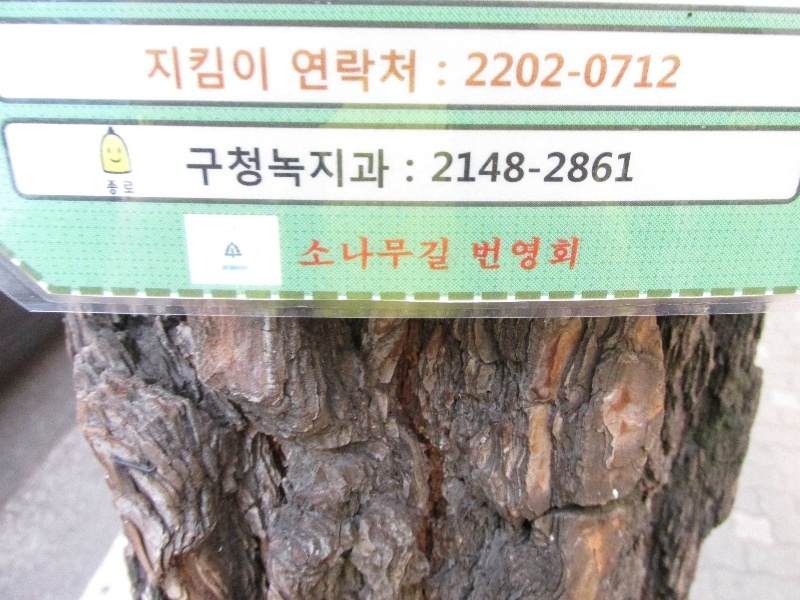text: (145, 47, 160, 93), (161, 47, 176, 93), (177, 47, 192, 93), (193, 47, 208, 93), (209, 47, 224, 93), (225, 47, 240, 93), (241, 47, 256, 93), (305, 48, 320, 94), (321, 48, 336, 94), (337, 48, 352, 94), (353, 48, 368, 94), (369, 48, 384, 94), (385, 48, 400, 94), (401, 48, 416, 94), (417, 48, 432, 94), (433, 48, 448, 94), (193, 148, 208, 190), (209, 148, 224, 190), (225, 148, 240, 190), (241, 148, 256, 190), (257, 148, 272, 190), (273, 148, 288, 190), (289, 148, 304, 190), (305, 148, 320, 190), (321, 148, 336, 190), (337, 148, 352, 190), (353, 148, 368, 190), (369, 148, 384, 190), (385, 148, 400, 190), (481, 53, 496, 90), (497, 53, 512, 90), (513, 53, 528, 90), (529, 53, 544, 90), (545, 53, 560, 90), (561, 53, 576, 90), (577, 53, 592, 90), (593, 53, 608, 90), (609, 53, 624, 90), (625, 53, 640, 90), (641, 53, 656, 90), (657, 53, 672, 90), (257, 47, 269, 93), (292, 48, 304, 94), (481, 236, 496, 271), (497, 236, 512, 271), (513, 236, 528, 271), (529, 236, 544, 271), (545, 236, 560, 271), (561, 236, 576, 271), (321, 237, 336, 271), (337, 237, 352, 271), (353, 237, 368, 271), (369, 237, 384, 271), (385, 237, 400, 271), (401, 237, 416, 271), (417, 237, 432, 271), (433, 237, 448, 271), (401, 148, 413, 190), (449, 152, 464, 183), (465, 152, 480, 183), (481, 152, 496, 183), (497, 152, 512, 183), (513, 152, 528, 183), (529, 152, 544, 183), (545, 152, 560, 183), (561, 152, 576, 183), (577, 152, 592, 183), (593, 152, 608, 183), (609, 152, 624, 183), (468, 53, 480, 90), (435, 152, 448, 183), (309, 237, 320, 271), (673, 53, 682, 90), (471, 236, 480, 271), (185, 148, 192, 190), (625, 152, 633, 183), (113, 181, 128, 196), (577, 236, 581, 271), (129, 181, 135, 196), (107, 181, 112, 196), (449, 237, 450, 271)
